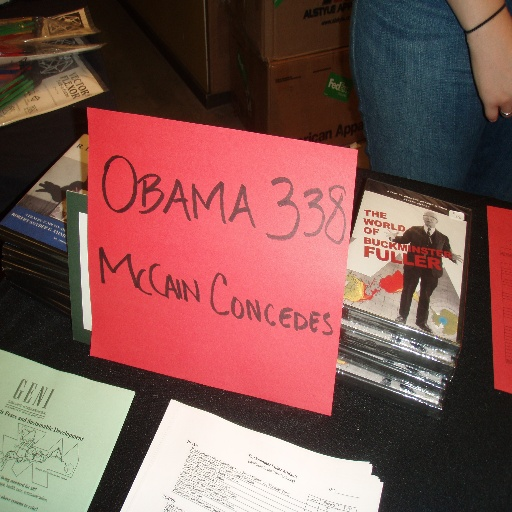hand: (465, 0, 512, 136), (384, 226, 399, 241), (448, 247, 464, 261)
